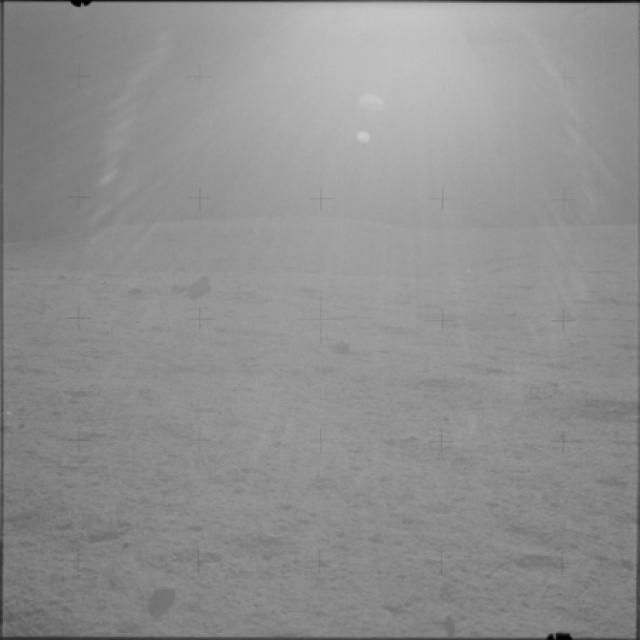rock: (182, 270, 220, 300), (148, 577, 180, 607), (433, 610, 470, 634)
